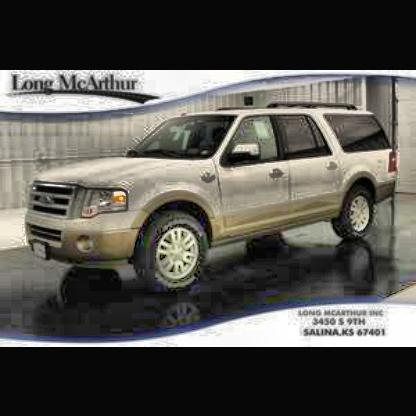Ford Expedition EL SUV 2009: (26, 101, 405, 296)
